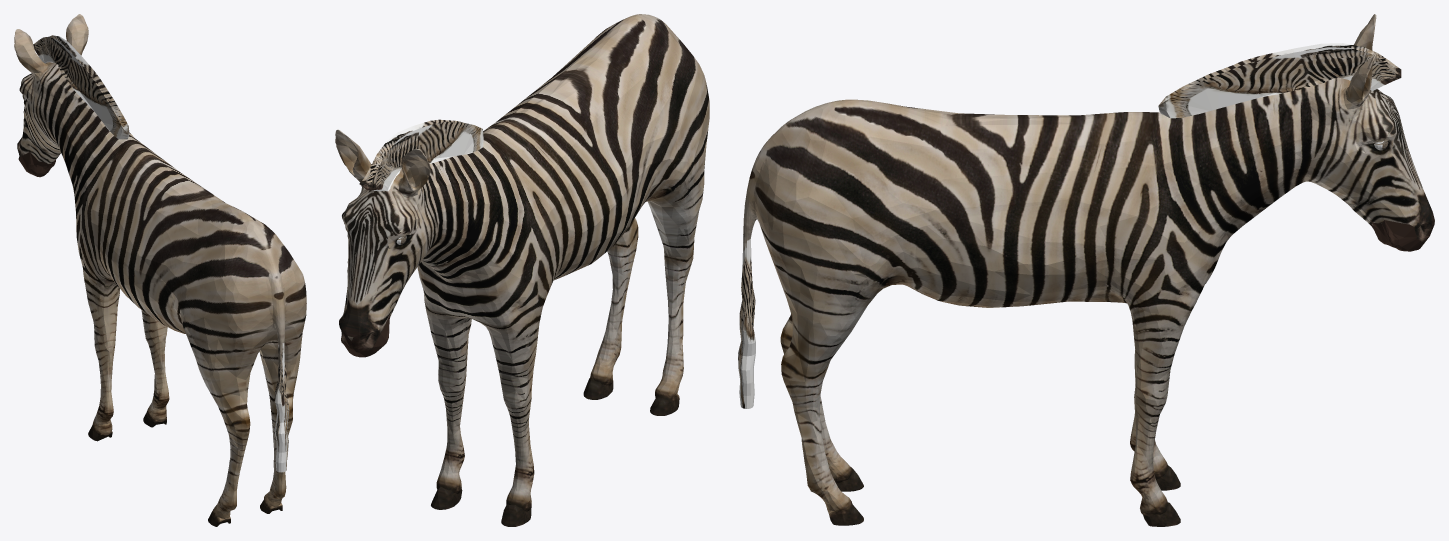
Rendered from zebra.obj.
3 views of the same model, side by side, from view 1: azimuth 30°, elevation 25°; view 2: azimuth 150°, elevation 25°; view 3: azimuth 270°, elevation 25° (orthographic). The views are drawn at different scales.
Visible parts, largest first — view 1: ZEBEYE1; view 2: ZEBEYE1; view 3: ZEBEYE1.
Part boxes in pixels (left/top/right/bottom): ZEBEYE1: left=14, top=14, right=306, bottom=526; ZEBEYE1: left=335, top=14, right=709, bottom=526; ZEBEYE1: left=738, top=14, right=1434, bottom=526.
Size of the model in its own units: 38778 by 122084 by 164207.
1 material, 1 textured.
